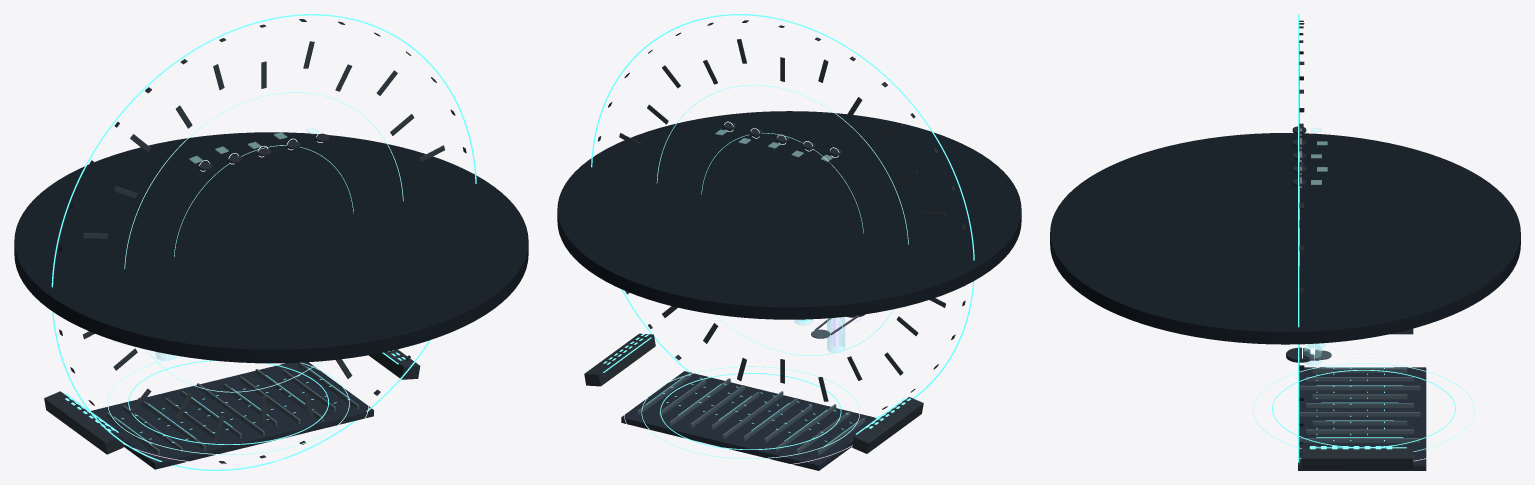
Rendered from maintain_ops_concept_kit.glb.
The picture shows the model from 3 angles, left to right: view 1: azimuth 30°, elevation 25°; view 2: azimuth 150°, elevation 25°; view 3: azimuth 270°, elevation 25°; orthographic projection. The views are drawn at different scales.
Visible parts, largest first — view 1: kit_stage_lower_shadow_disc, kit_back_wall_shadow_mass, kit_stage_outer_cyan_rim, kit_side_reactor_tower_-1, kit_side_reactor_tower_1, kit_stage_inner_blue_rim, kit_back_halo_7.7, kit_back_halo_9.3; view 2: kit_stage_lower_shadow_disc, kit_back_wall_shadow_mass, kit_side_reactor_tower_-1, kit_stage_outer_cyan_rim, kit_side_reactor_tower_1, kit_stage_inner_blue_rim, kit_back_halo_10.8, kit_silo_glass_tube_0, kit_back_halo_9.3, kit_back_halo_7.7; view 3: kit_stage_lower_shadow_disc, kit_back_wall_shadow_mass, kit_side_reactor_tower_1, kit_stage_outer_cyan_rim, kit_back_wall_fin_02, kit_back_wall_fin_07, kit_back_wall_fin_05, kit_back_wall_fin_08, kit_back_wall_fin_03, kit_back_wall_fin_06, kit_back_halo_10.8, kit_back_wall_fin_04 (+2 smaller).
Boxes of the visible parts, x1,y1,x2,y2 form: kit_stage_lower_shadow_disc: (14, 132, 528, 363); kit_back_wall_shadow_mass: (91, 362, 373, 469); kit_stage_outer_cyan_rim: (51, 14, 476, 470); kit_side_reactor_tower_-1: (44, 391, 123, 454); kit_side_reactor_tower_1: (369, 349, 420, 379); kit_stage_inner_blue_rim: (124, 92, 403, 392); kit_back_halo_7.7: (128, 360, 328, 444); kit_back_halo_9.3: (107, 356, 349, 454); kit_stage_lower_shadow_disc: (557, 111, 1021, 319); kit_back_wall_shadow_mass: (621, 371, 876, 470); kit_side_reactor_tower_-1: (852, 397, 923, 453); kit_stage_outer_cyan_rim: (591, 14, 974, 418); kit_side_reactor_tower_1: (584, 333, 655, 386); kit_stage_inner_blue_rim: (656, 85, 908, 355); kit_back_halo_10.8: (624, 360, 877, 467); kit_silo_glass_tube_0: (827, 317, 845, 352); kit_back_halo_9.3: (641, 366, 859, 458); kit_back_halo_7.7: (660, 373, 841, 449); kit_stage_lower_shadow_disc: (1050, 133, 1520, 344); kit_back_wall_shadow_mass: (1298, 367, 1426, 470); kit_side_reactor_tower_1: (1301, 448, 1413, 468); kit_stage_outer_cyan_rim: (1298, 14, 1299, 462); kit_back_wall_fin_02: (1299, 385, 1420, 390); kit_back_wall_fin_07: (1305, 429, 1413, 434); kit_back_wall_fin_05: (1299, 412, 1420, 416); kit_back_wall_fin_08: (1299, 438, 1420, 442); kit_back_wall_fin_03: (1312, 394, 1407, 399); kit_back_wall_fin_06: (1312, 420, 1407, 425); kit_back_halo_10.8: (1235, 356, 1492, 461); kit_back_wall_fin_04: (1305, 403, 1413, 407).
Bounding box in the file's own units: 39.6 × 37.81 × 39.6.
